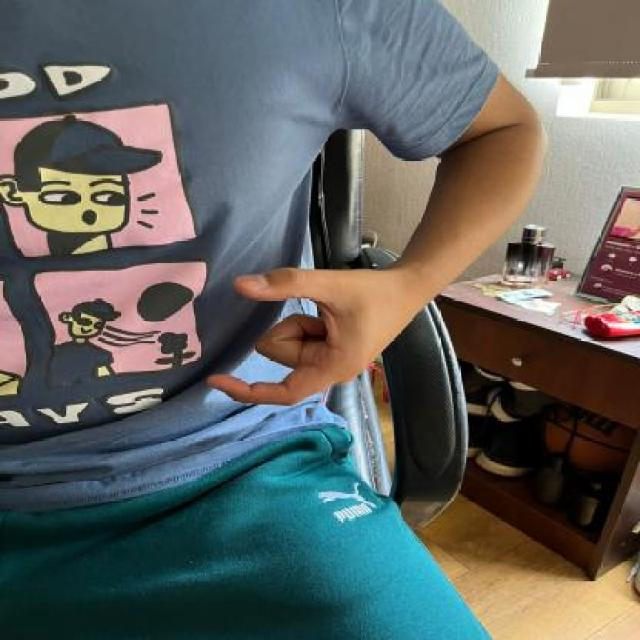G: (206, 263, 419, 409)
